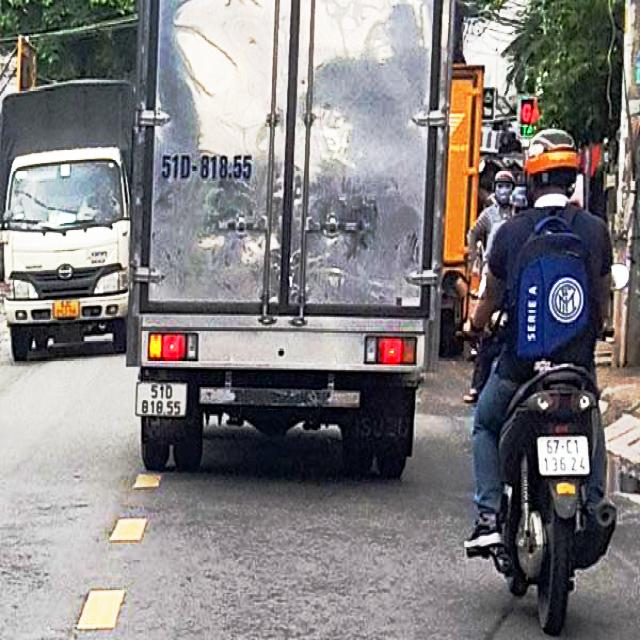license_plate: (136, 380, 188, 421), (539, 439, 591, 475), (54, 298, 82, 321)
